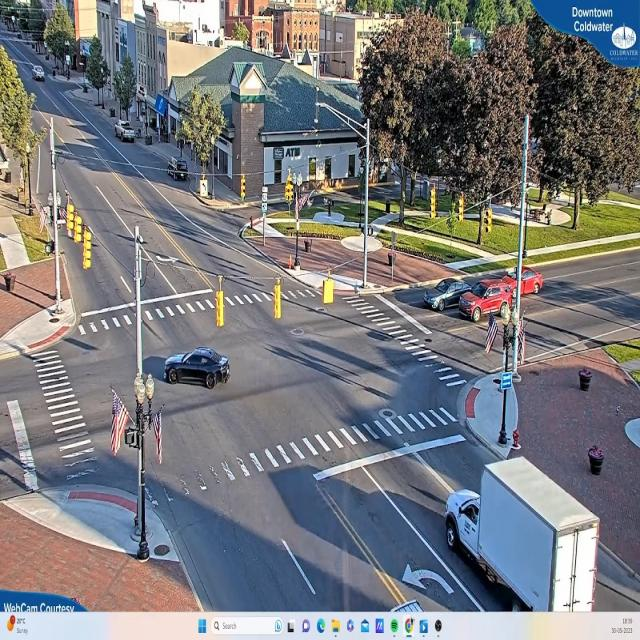car: (163, 348, 229, 390), (459, 276, 511, 321), (422, 273, 463, 314), (509, 264, 546, 300), (116, 123, 136, 143)
truck: (436, 464, 604, 613)
